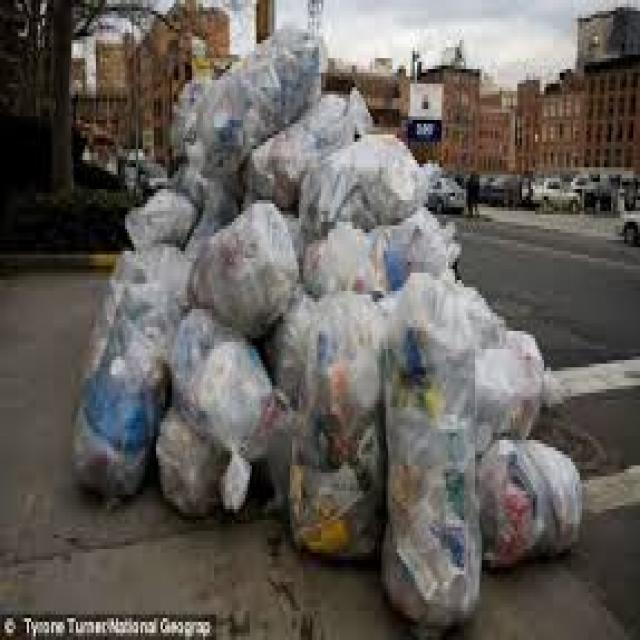plastic_bag: (68, 256, 188, 478), (391, 303, 467, 608), (289, 321, 385, 554), (184, 5, 313, 154), (483, 419, 585, 561), (291, 132, 427, 223), (175, 321, 273, 445), (184, 230, 302, 328), (376, 216, 445, 285), (304, 230, 380, 292)
